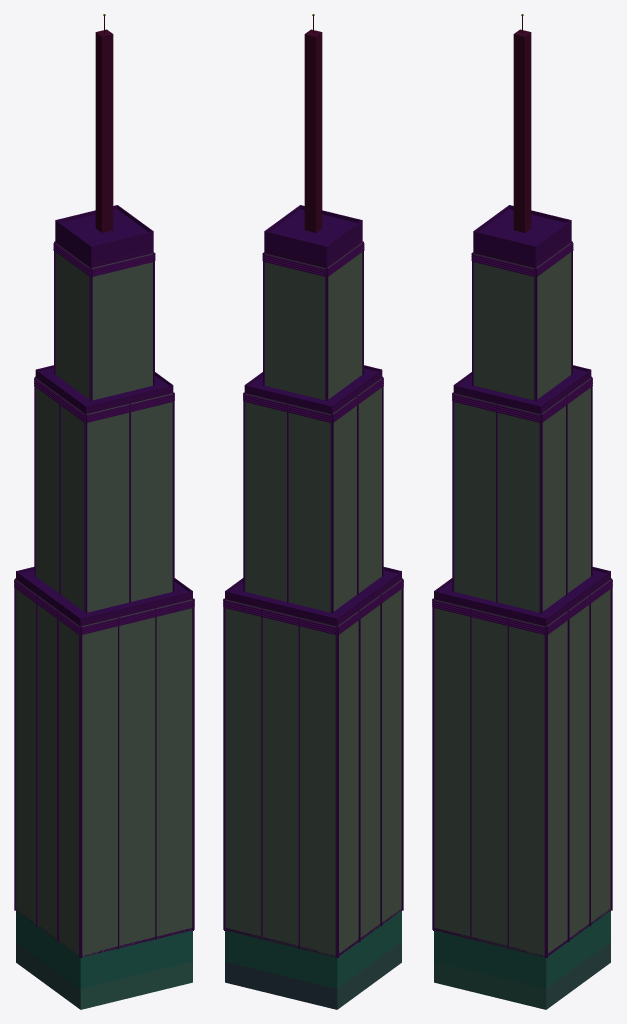
File: tower_c.glb
3 views of the same model, side by side, from view 1: azimuth 30°, elevation 25°; view 2: azimuth 150°, elevation 25°; view 3: azimuth 330°, elevation 25° (orthographic).
Parts seen in each view (by area): view 1: tower_c; view 2: tower_c; view 3: tower_c.
Boxes of the visible parts, x1,y1,x2,y2 form: tower_c: [14, 14, 194, 1009]; tower_c: [223, 14, 403, 1009]; tower_c: [432, 14, 612, 1009].
Bounding box in the file's own units: 27.84 × 220 × 27.84.
